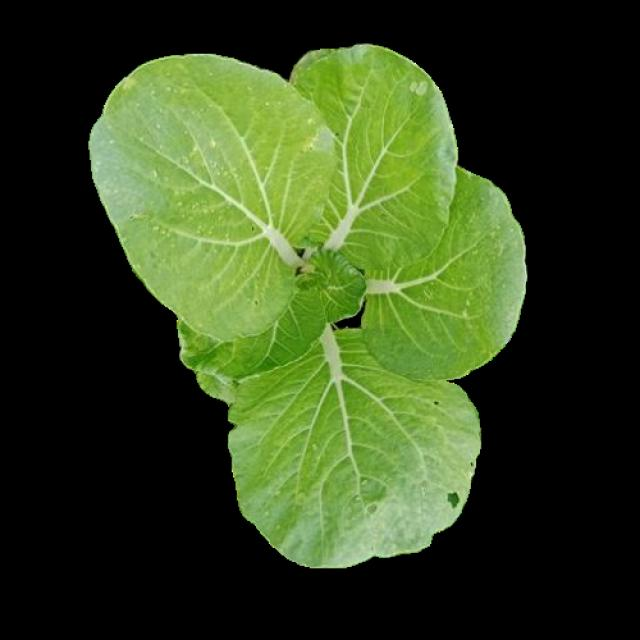mature: (88, 44, 520, 567)
unhealthy: (90, 57, 342, 336), (233, 324, 480, 563), (293, 48, 451, 268), (362, 173, 522, 371)
